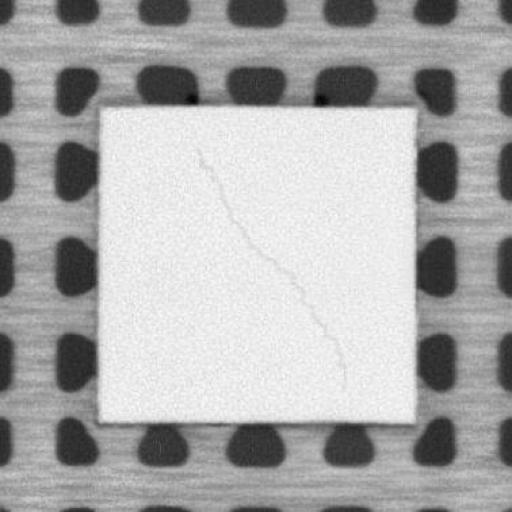DIE_CRACK: (195, 144, 350, 386)
